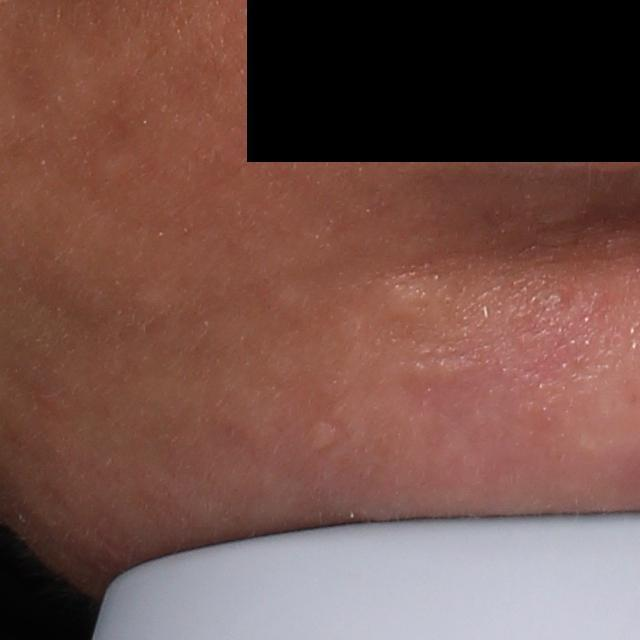hypertrophic_scar: (393, 347, 475, 385), (378, 278, 436, 320)
